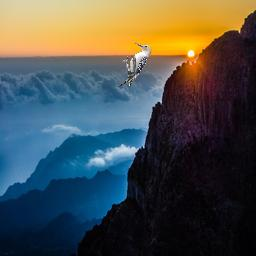Woodpecker: (118, 42, 152, 88)
